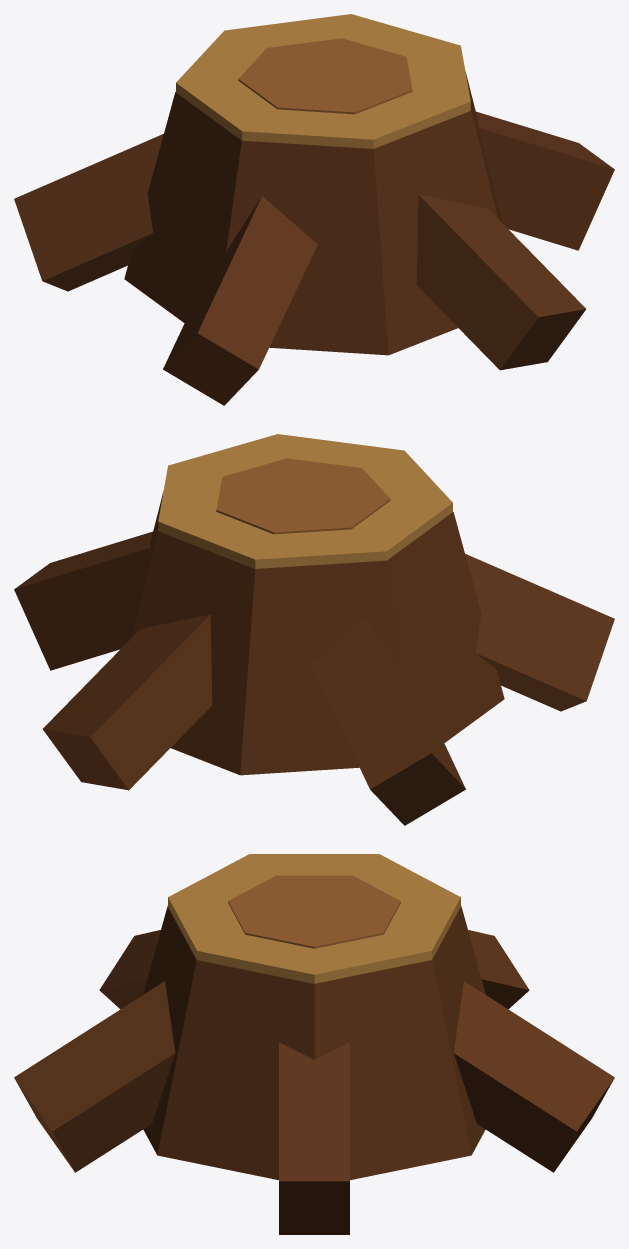
The model's file is stump.fbx.
3 renders of one model, top to bottom at view 1: azimuth 30°, elevation 25°; view 2: azimuth 150°, elevation 25°; view 3: azimuth 270°, elevation 25°, orthographic.
Parts seen in each view (by area): view 1: stump; view 2: stump; view 3: stump.
Part boxes in pixels (x1,y1,x2,y2): stump: (14,14,614,405); stump: (14,434,614,825); stump: (14,854,614,1234).
Bounding box in the file's own units: 0.9481 × 0.4184 × 1.02.
